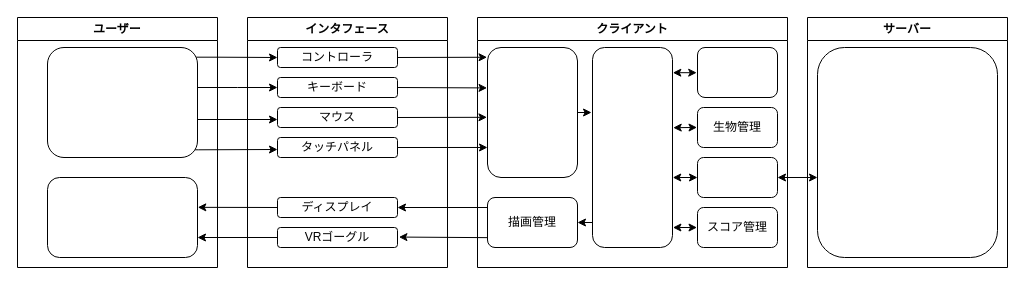
The diagram is 1025 pixels wide and 285 high, and some of its shapes have lost their labels. The shapes that lost their labels are listed below. From the top down, each one's centre as x and y in pixels, then its label:
point 737,72: 深度管理
point 122,102: 手操作による入力
point 532,112: 入力管理
point 632,147: 総括管理
point 907,152: ランキング・スコアデータ
point 737,177: 通信管理
point 122,217: 視覚的出力
